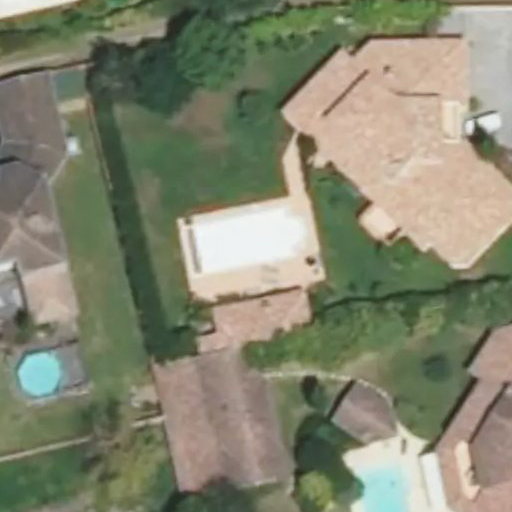pool: (190, 204, 308, 274), (353, 467, 411, 512), (17, 350, 63, 396)
